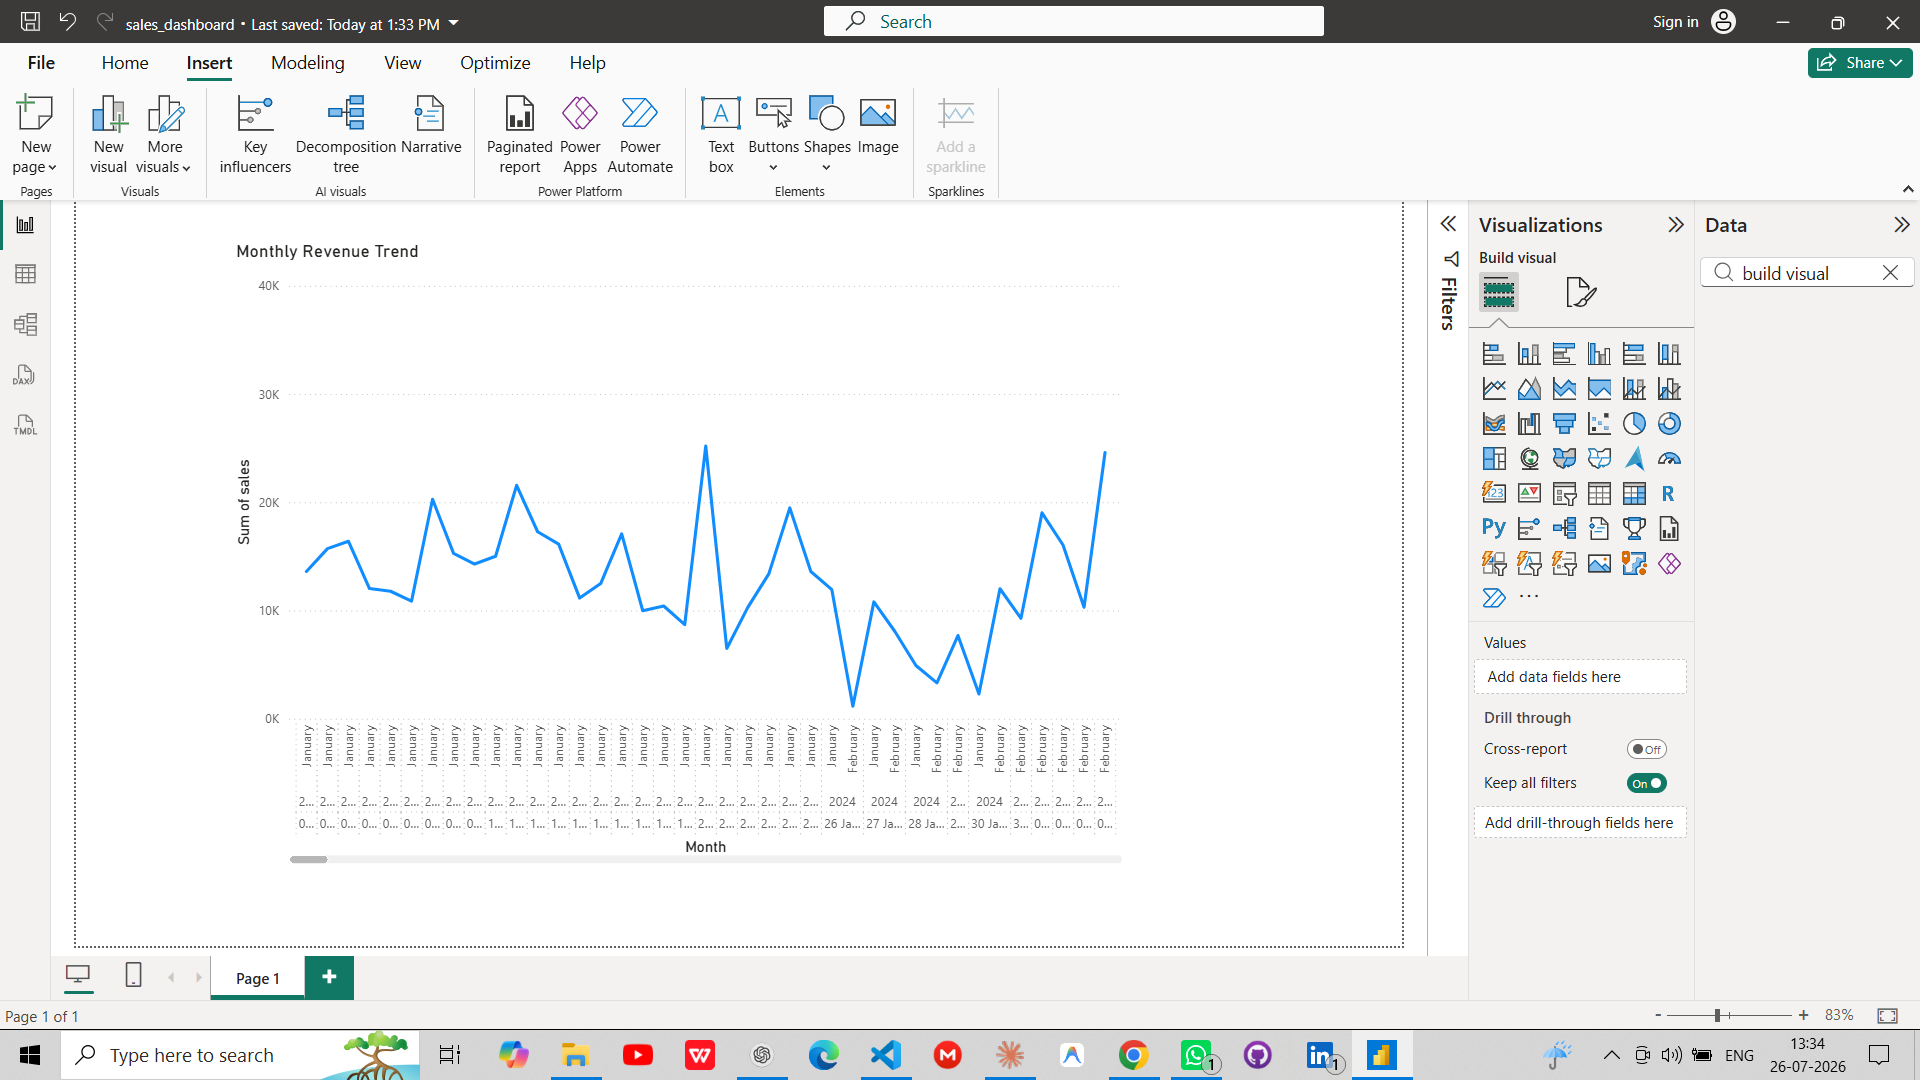

Layout of this report page (visuals, bound fields, positions):
{"tool":"powerbi","page":{"name":"Page 1","canvas":[1280,720],"ordinal":0},"visuals":[{"type":"lineChart","title":"Monthly Revenue Trend","fields":{"Category":["public fact_sales (2).order_date","public fact_sales (2).ship_date.Variation.Date Hierarchy.Year","public fact_sales (2).ship_date.Variation.Date Hierarchy.Month"],"Y":["Sum(public fact_sales (2).sales)"]},"box":[149.6,38.6,865,606.8],"z":0}]}

Visuals, with their boxes on the page's 1280x720 design canvas (x1, y1, x2, y2). These are canvas units, not pixel positions in the 1920x1080 screenshot, which may show the page scaled, cropped or inside an application window:
"Monthly Revenue Trend" lineChart: [x1=150, y1=39, x2=1015, y2=645]
